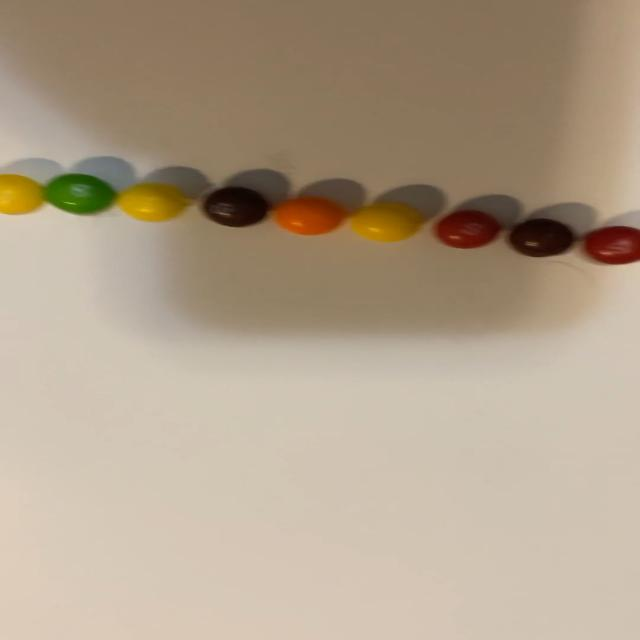smartie: (44, 173, 114, 214), (351, 202, 422, 242), (116, 182, 187, 221), (274, 196, 345, 235), (203, 186, 268, 226), (510, 218, 574, 257), (436, 210, 501, 248), (585, 226, 640, 264), (0, 174, 43, 214)
